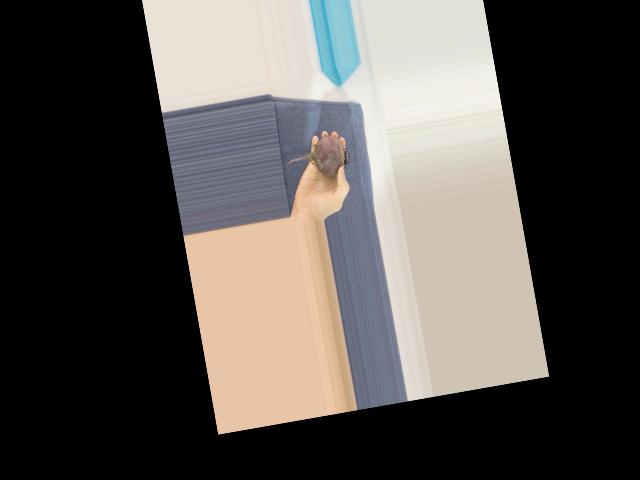beet: (282, 132, 352, 183)
